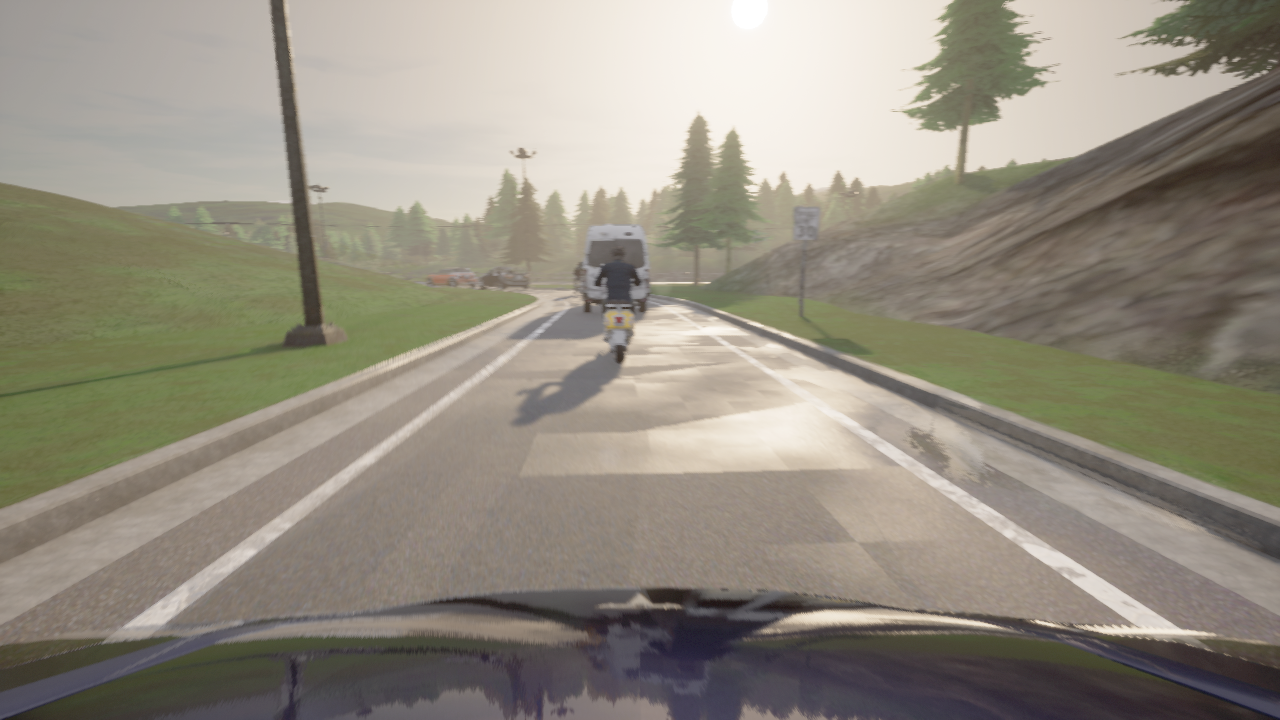cyclist: (0, 588, 1279, 719), (579, 225, 649, 312), (590, 270, 646, 363), (479, 267, 529, 289), (426, 267, 476, 287), (574, 283, 581, 293)
